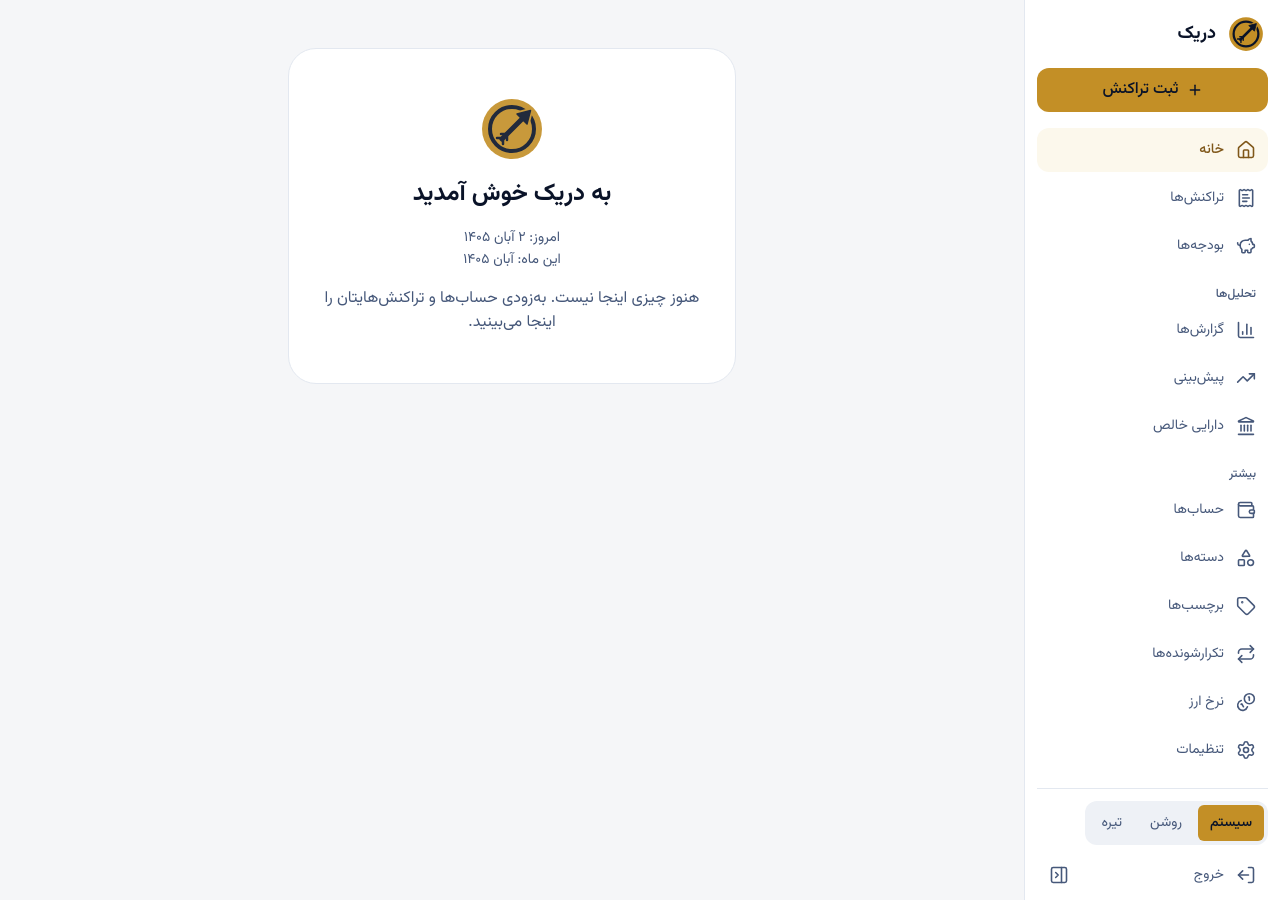
Test: Accounts › are reachable from the header and start empty
Click the link "حساب‌ها" at (1215, 510), box [1174,499,1256,521]
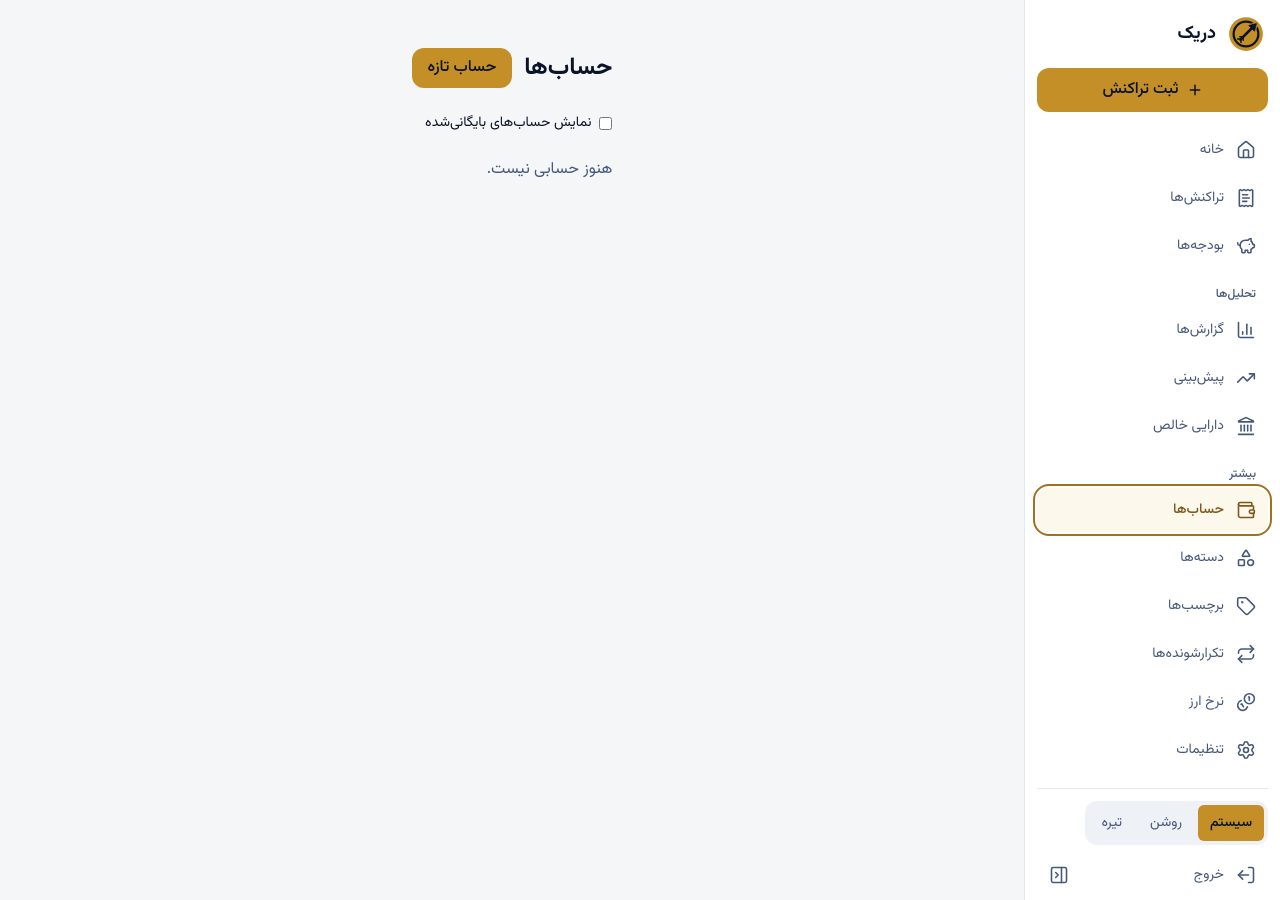
Check: the text "هنوز حسابی نیست." is shown, box [487,157,612,182]
